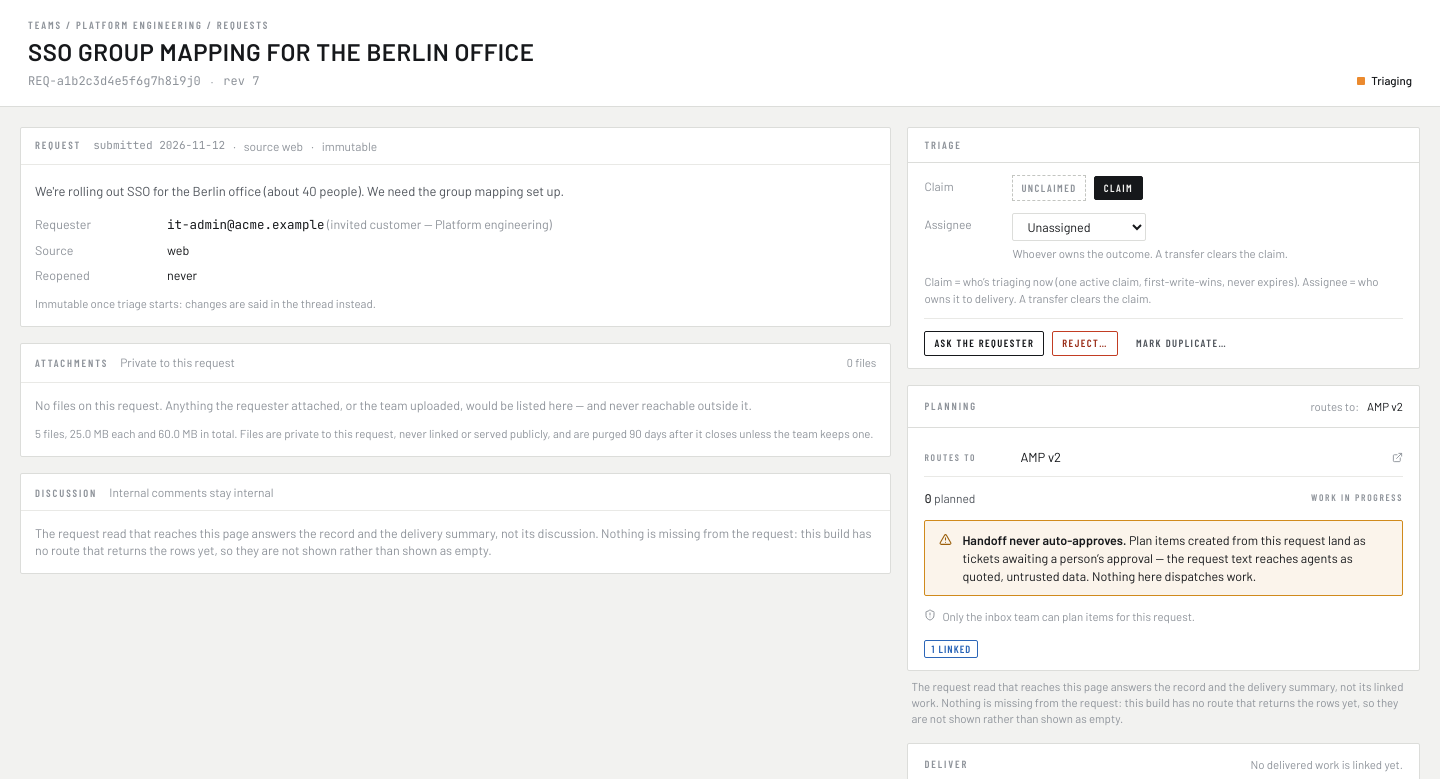
Scenario: a failed write preserves the draft and explains itself › keeps a half-typed question when the claim race is lost, and offers Refresh
Note: Type the question first: this is the draft the criterion is about.
Step 1. Click the button "Ask the requester" → (984, 344), box [924,331,1044,356]
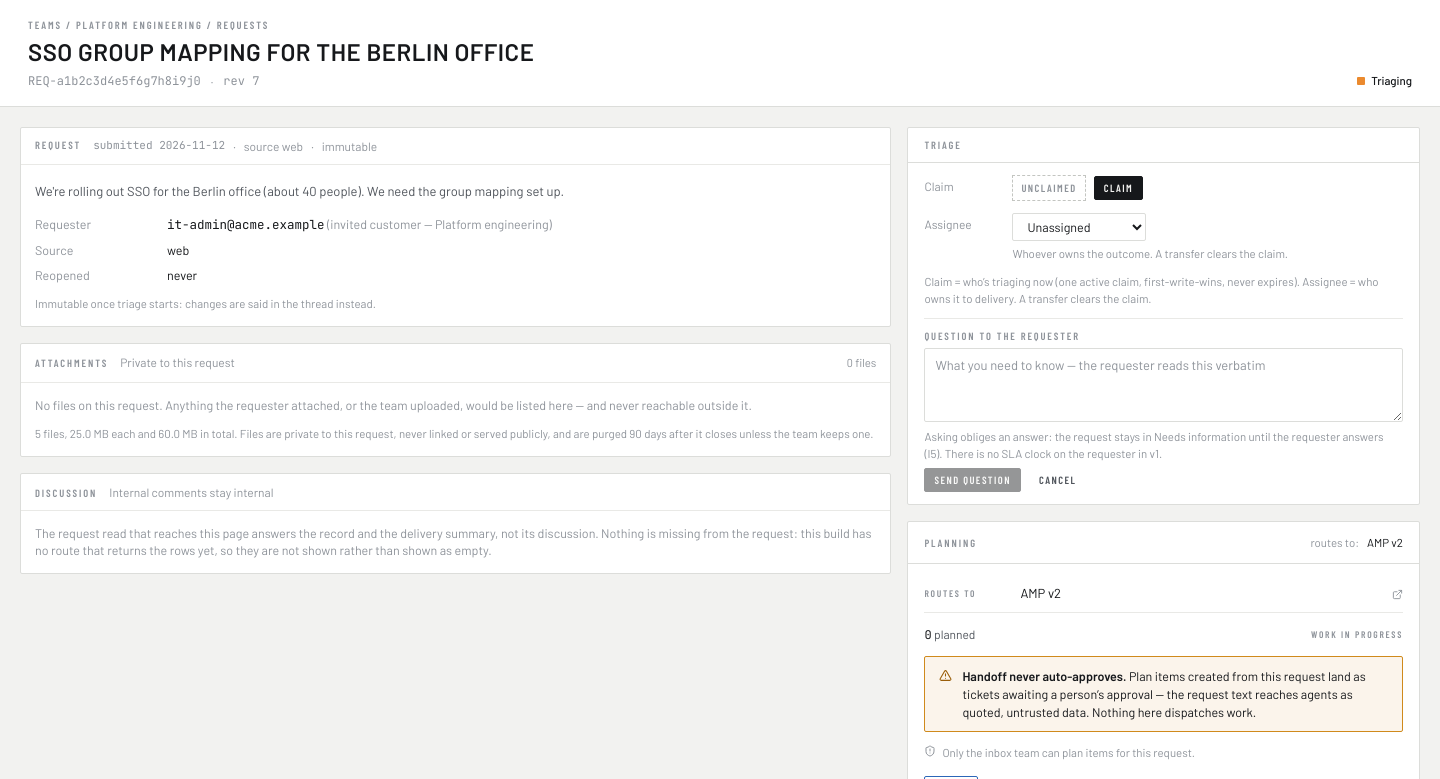
Step 2. Type "Which of the two groups should be the default?" into the text box labelled "Question to the requester" → (1164, 385), box [924,348,1403,422]
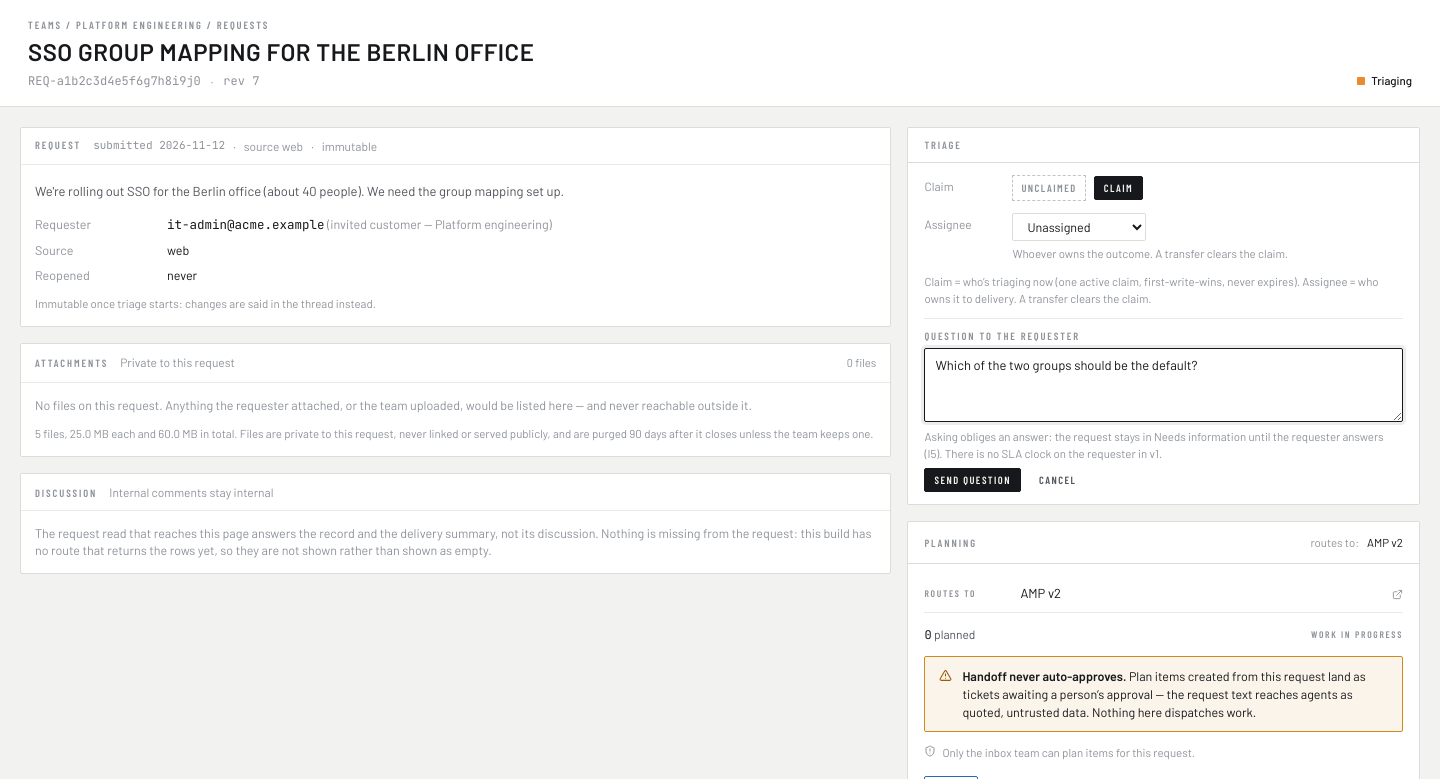
Note: Then lose a claim race elsewhere on the same page.
Step 3. Click the button "Claim" → (1118, 188), box [1094,176,1143,200]
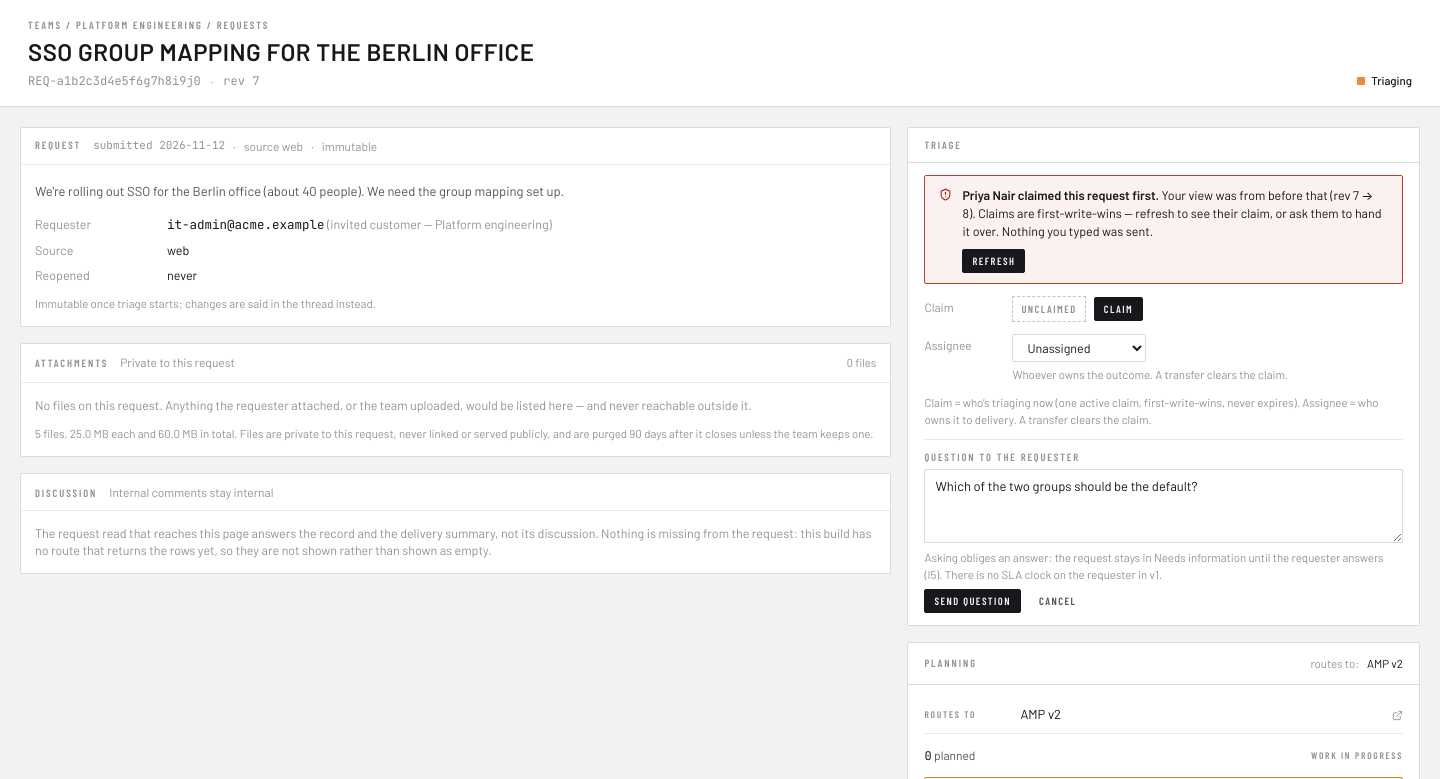
Now the message shows "Priya Nair", box [962,187,1159,203]
Now the message shows "first-write-wins", box [962,187,1382,240]
Now the button "Refresh" is shown, box [962,249,1025,273]
